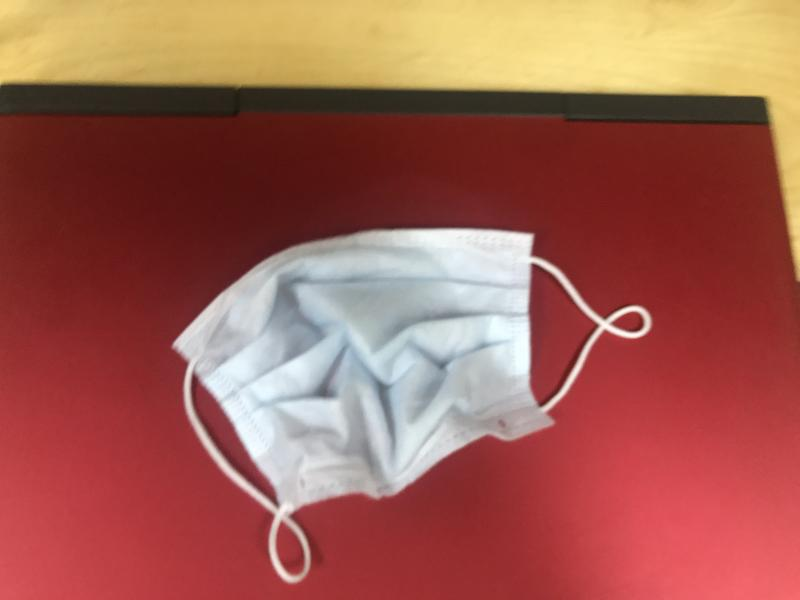medical_mask: (175, 226, 650, 582)
